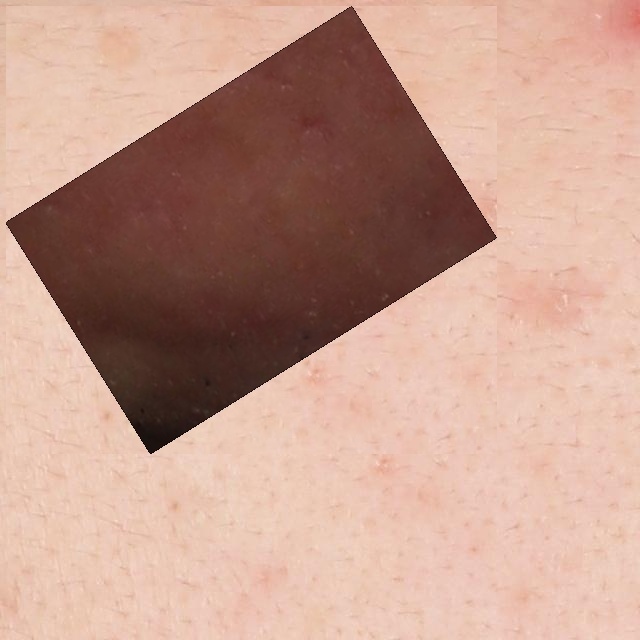hypertrophic_scar: (17, 17, 486, 443)
